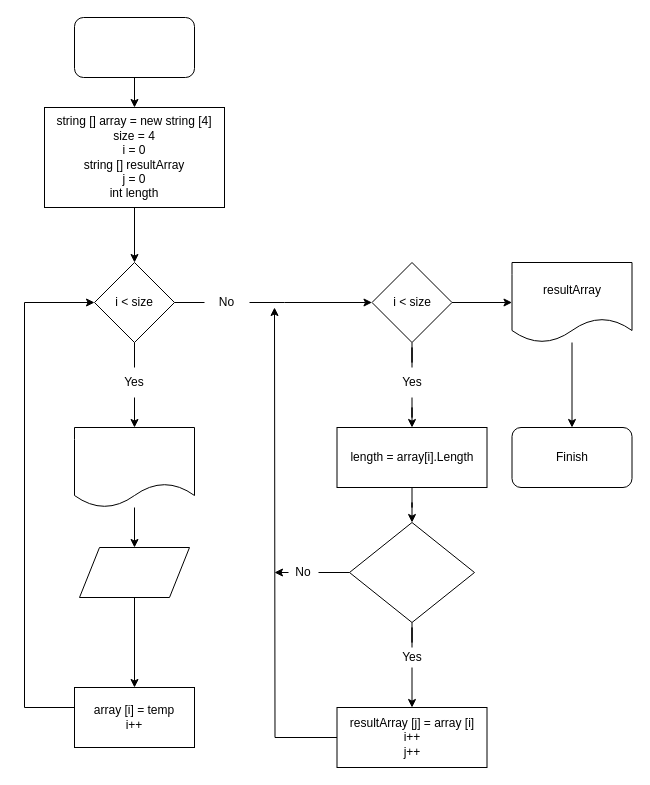
This 650x785 diagram has some shape labels left out. Each missing label, with the centre of its shape:
"length < 4 && length > 0" goes at (x=411, y=572).
"Please enter something" goes at (x=134, y=467).
"Start" goes at (x=134, y=47).
"temp" goes at (x=134, y=572).
